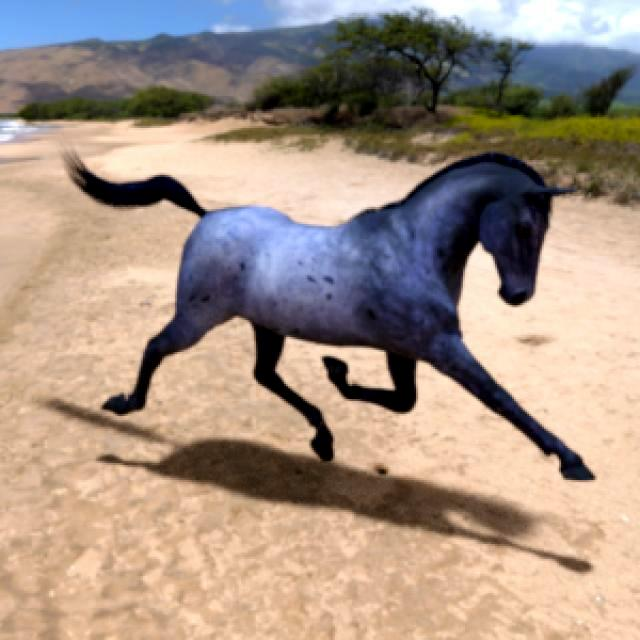horse: (65, 152, 591, 479)
